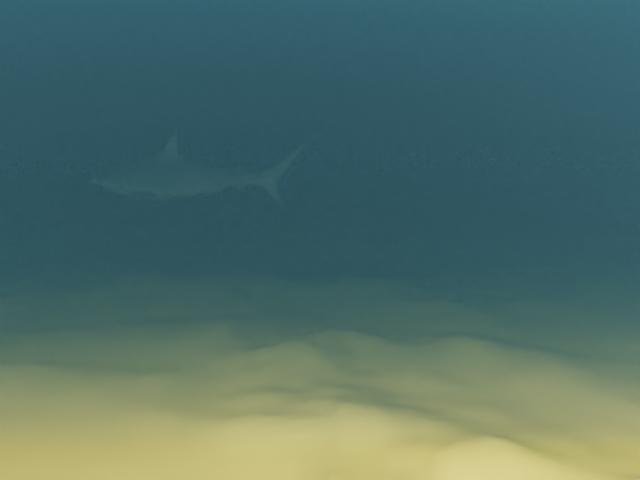Carribean Shark.001: (88, 129, 311, 210)
